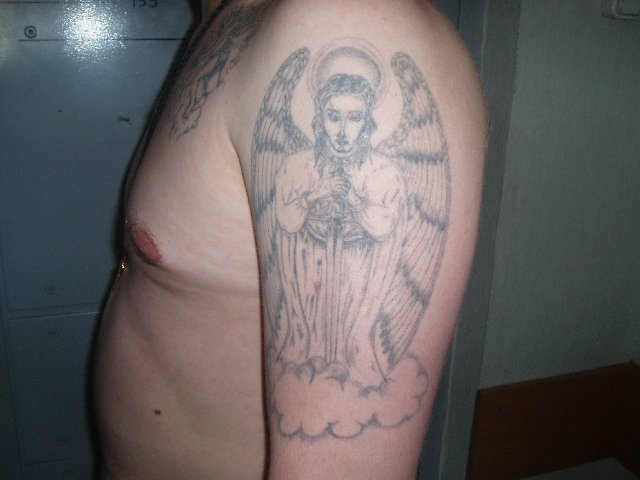tatu1_angel: (244, 35, 457, 387)
